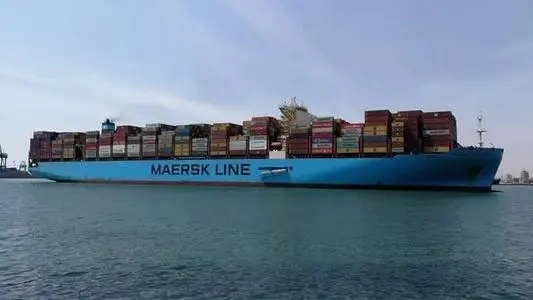Cargoship: (24, 98, 504, 197)
